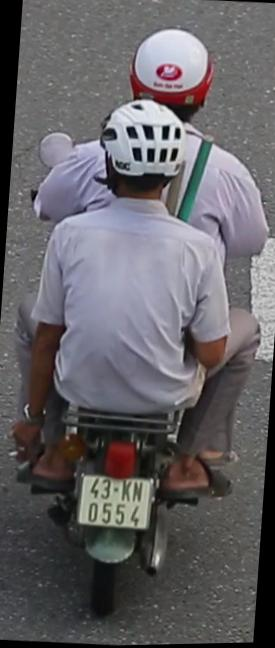LP: (72, 466, 157, 536)
helmet: (94, 92, 196, 226), (126, 20, 216, 123)
